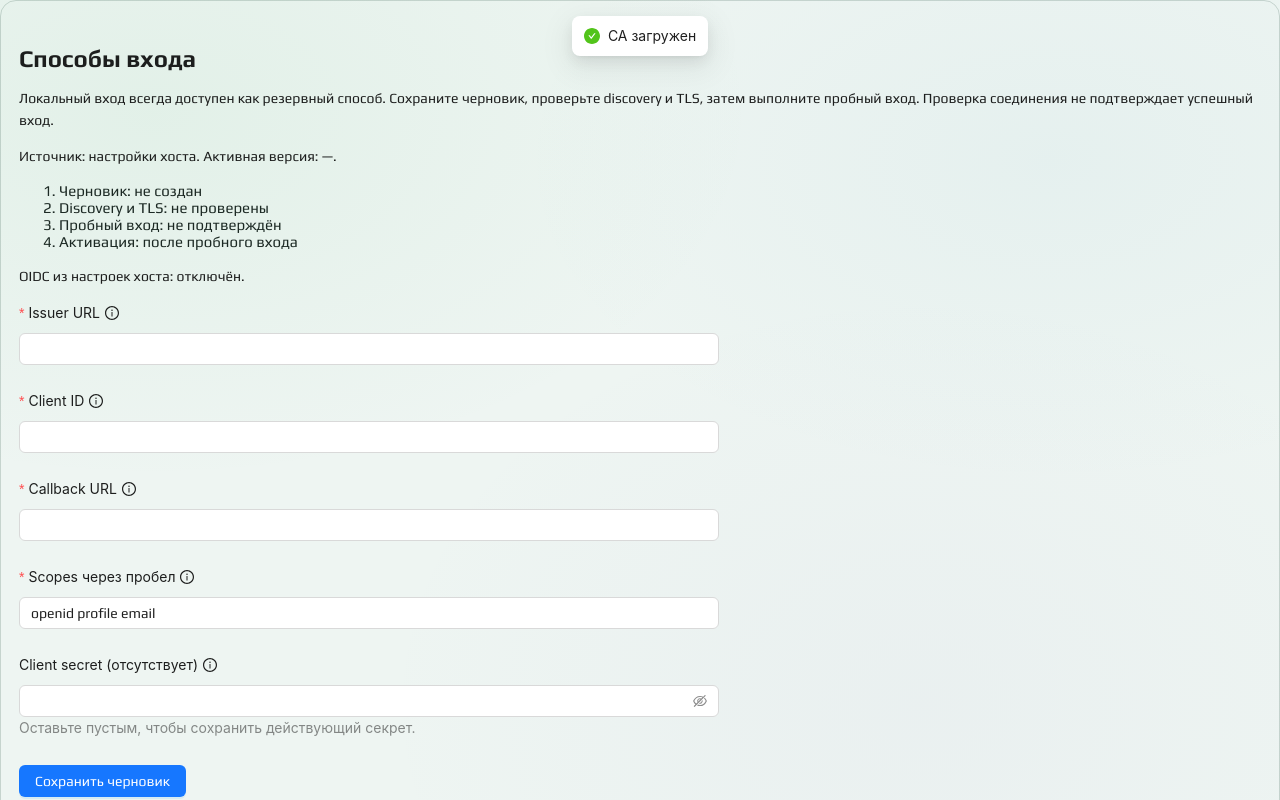
Test case: keeps the form editable after a known 503 key refusal
This screenshot has width=1280, height=800.
Expected: the text "Источник: настройки хоста. Активная версия: —." is shown, x1=19 y1=148 x2=337 y2=164
Type "https://id.example.test" into the field labelled "Issuer URL".
click(369, 349); type("https://id.example.test")  # box x1=19 y1=333 x2=719 y2=365
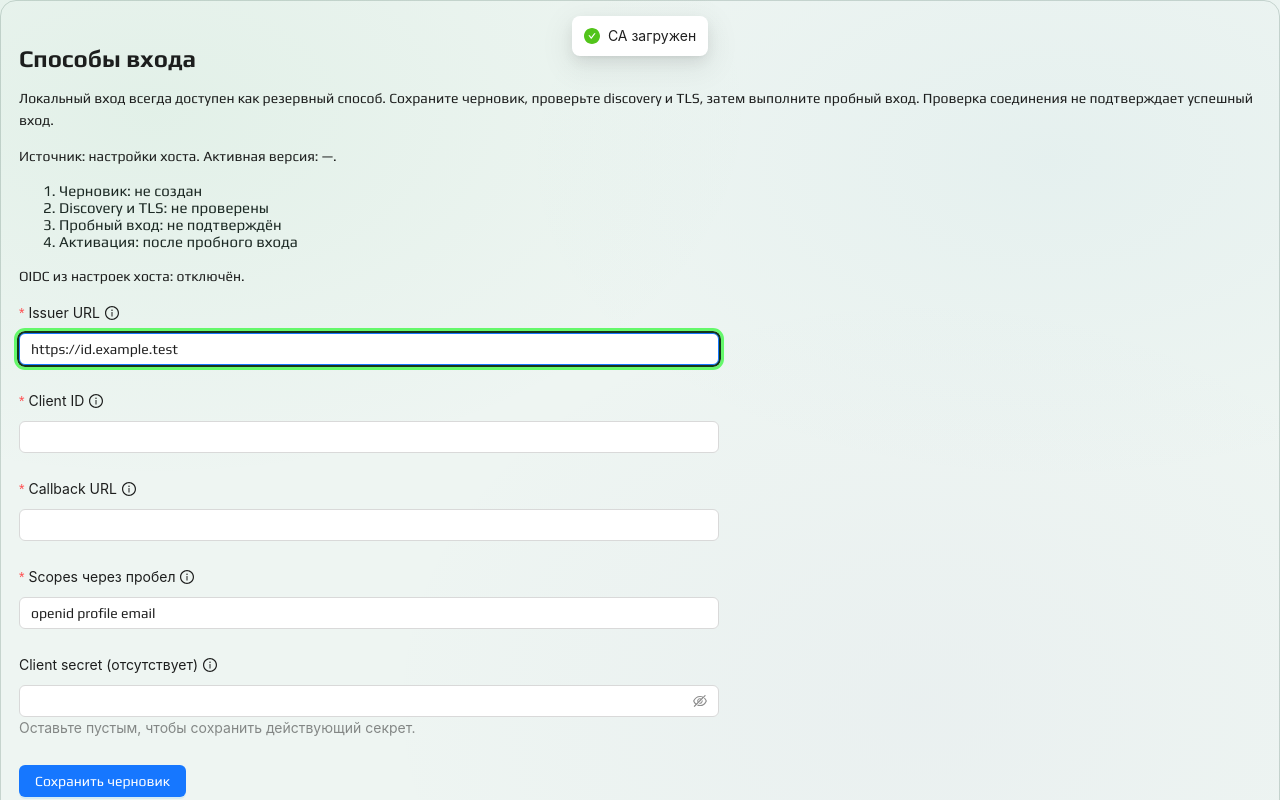
Type "client" into the field labelled "Client ID".
click(369, 437); type("client")  # box x1=19 y1=421 x2=719 y2=453
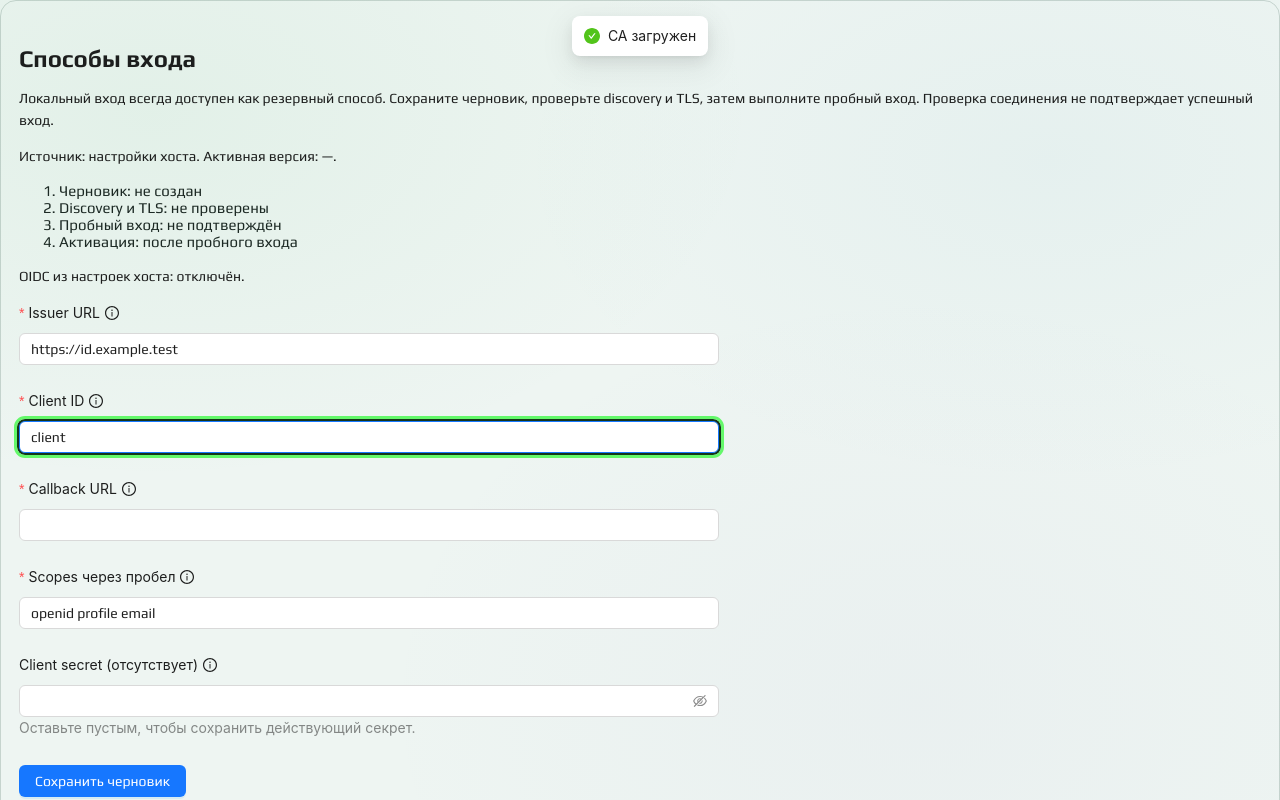
Type "http://localhost:8080/api/v1/auth/oidc/callback" into the field labelled "Callback URL".
click(369, 525); type("http://localhost:8080/api/v1/auth/oidc/callback")  # box x1=19 y1=509 x2=719 y2=541
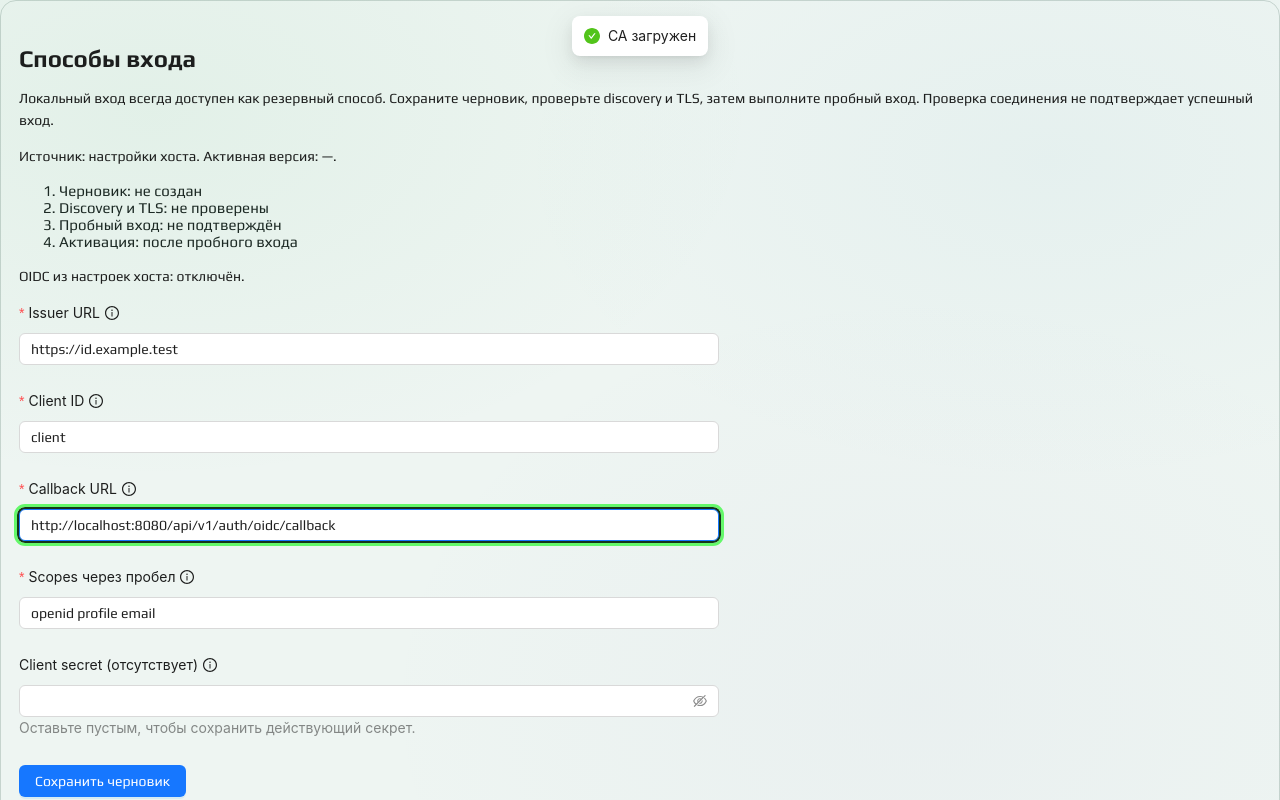
Click the button "Сохранить черновик".
click(102, 781)  # box x1=19 y1=765 x2=186 y2=797
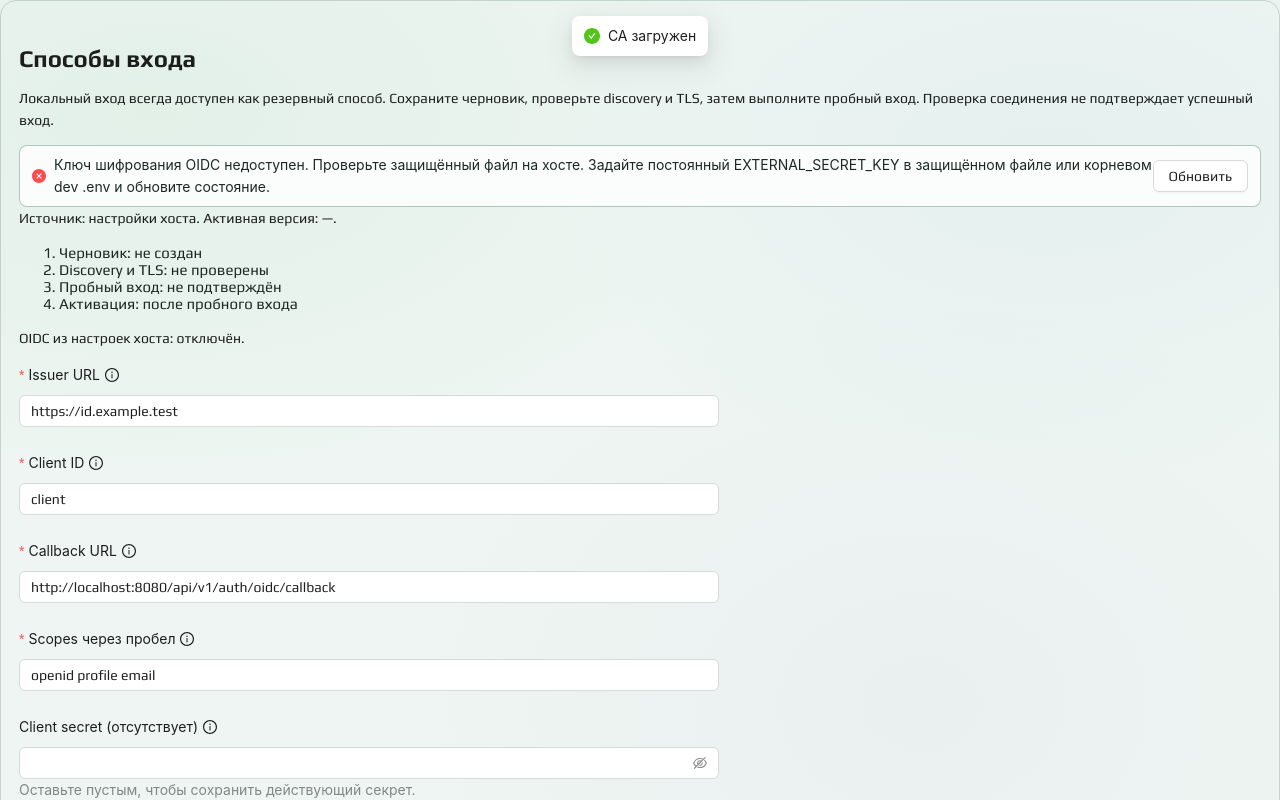
Expected: the text "EXTERNAL_SECRET_KEY" is shown, x1=54 y1=156 x2=1152 y2=195
